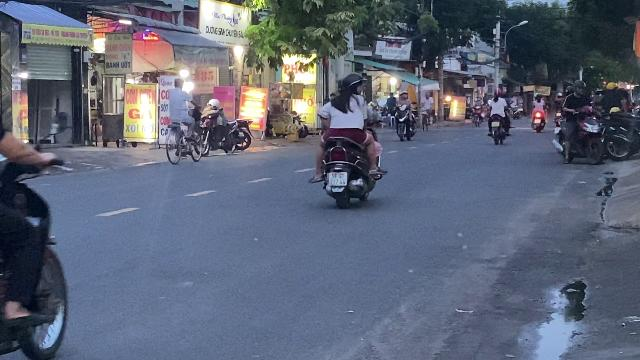helmet: (338, 72, 366, 96)
licenseplate: (329, 172, 347, 186)
motorcyclist: (308, 72, 384, 208)
